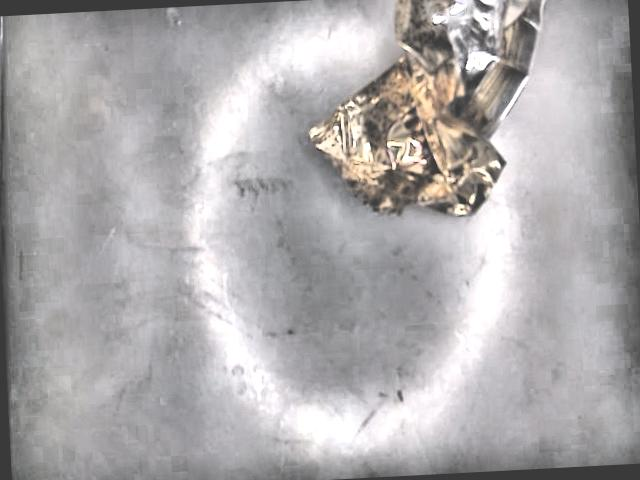Plastic: (302, 0, 547, 219)
